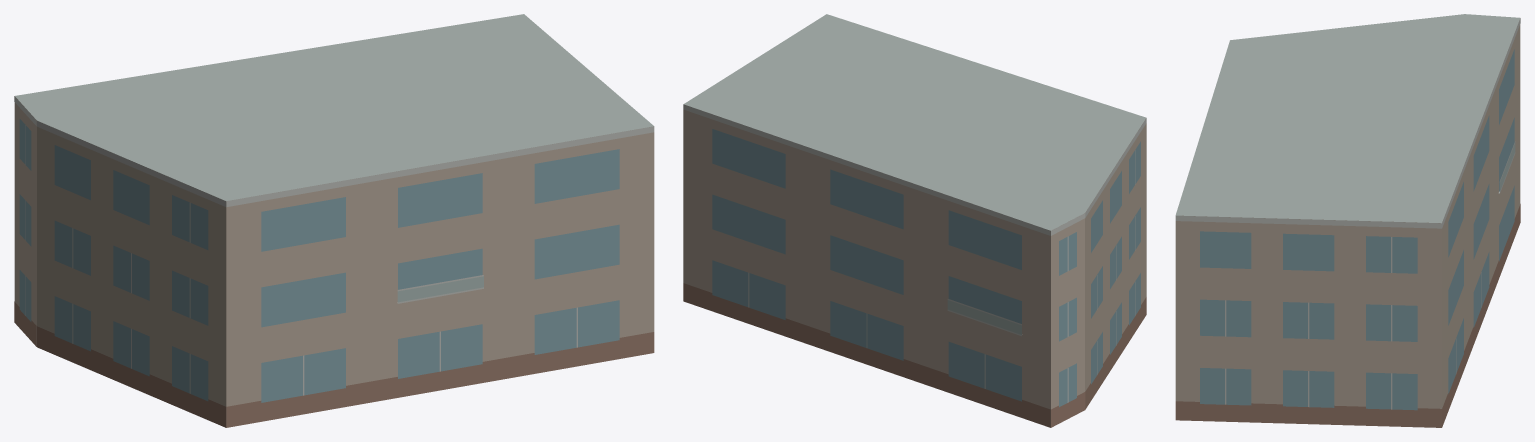
File: survey-upis-32602626.glb
3 renders of one model, left to right at view 1: azimuth 30°, elevation 25°; view 2: azimuth 150°, elevation 25°; view 3: azimuth 270°, elevation 25°, orthographic. The views are drawn at different scales.
Parts seen in each view (by area): view 1: survey-upis-32602626.tmp; view 2: survey-upis-32602626.tmp; view 3: survey-upis-32602626.tmp.
Part boxes in pixels (x1,y1,x2,y2): survey-upis-32602626.tmp: (14, 14, 654, 427); survey-upis-32602626.tmp: (683, 14, 1146, 427); survey-upis-32602626.tmp: (1175, 14, 1520, 427).
Size of the model in its own units: 20.06 by 9.15 by 13.98.
